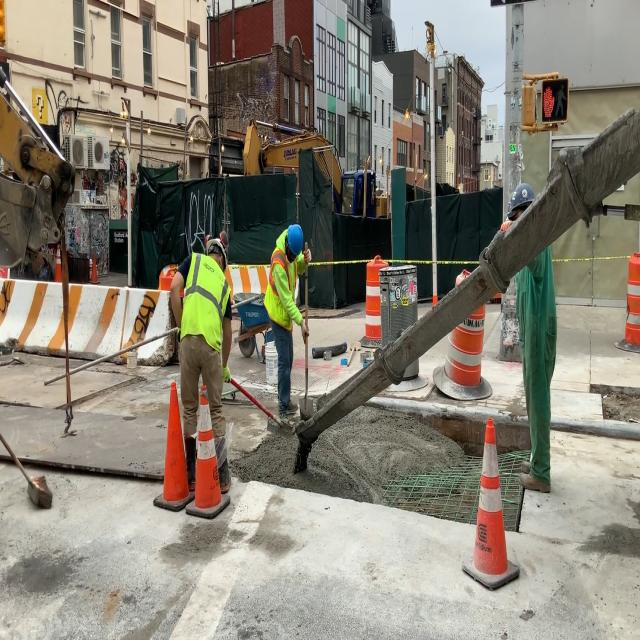worker: (172, 239, 238, 496), (263, 211, 312, 424)
